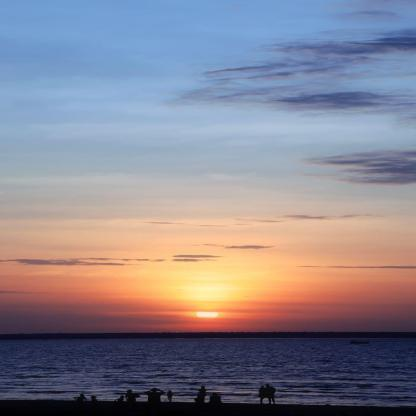other: (131, 268, 279, 332)
